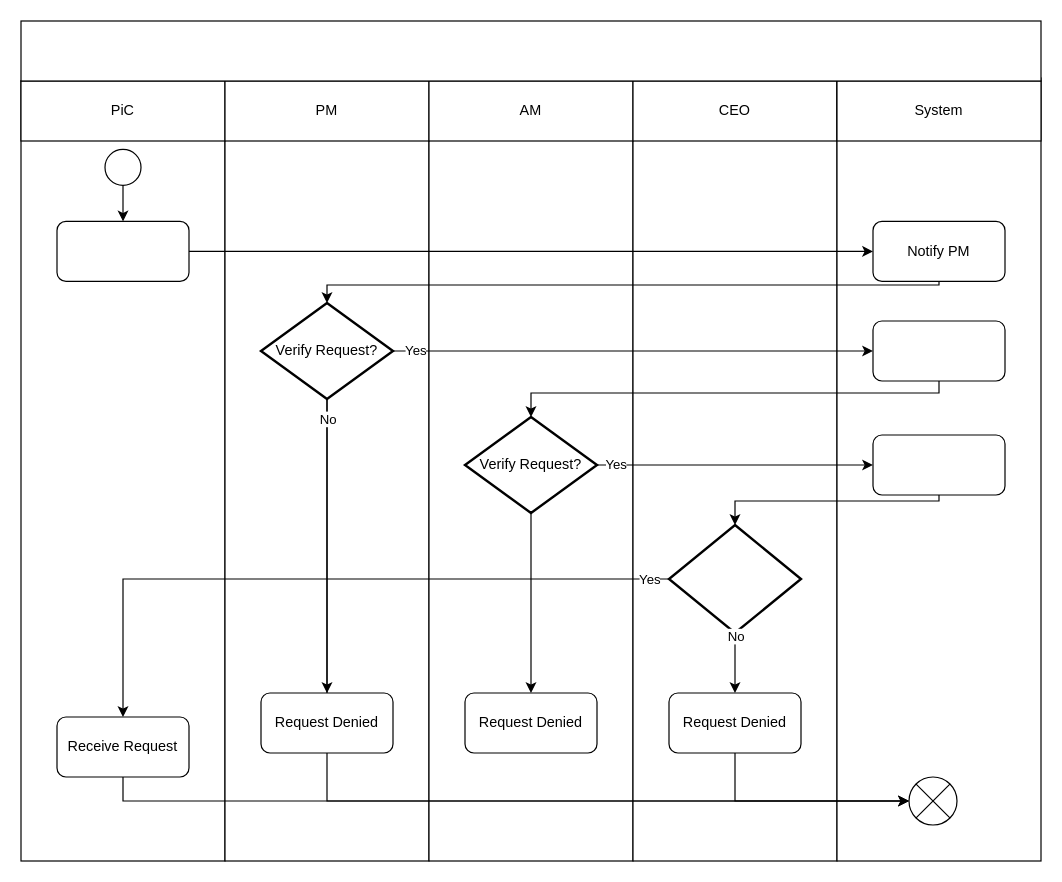
Image size: 1062x882. Some labels were removed from this diagram. The shapes that lost their labels are listed below. From the top down, each one's centre as x and y in pixels, then its label:
point 530,50: Material Request Process Flow
point 122,250: Submit Material Request
point 938,350: Notify AM
point 938,464: Notify CEO
point 734,578: Approve Request?
